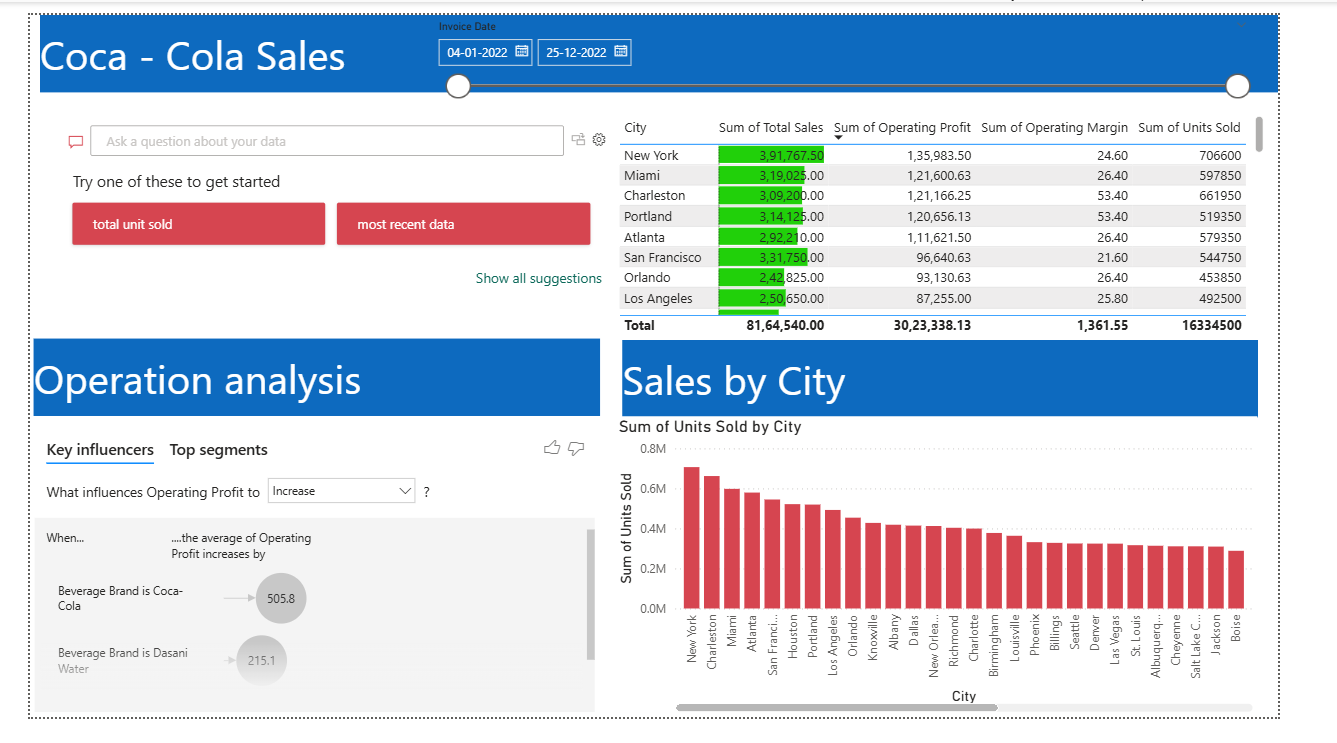

The dashboard page shown, as its layout file describes it:
{"tool":"powerbi","page":{"name":"Page 1","canvas":[1280,720],"ordinal":0},"visuals":[{"type":"shape","box":[9.8,0,1270.5,79.5],"z":0},{"type":"shape","box":[3.7,332.6,580.8,79.5],"z":1000},{"type":"shape","box":[607.7,333.8,651.8,79.5],"z":2000},{"type":"qnaVisual","box":[30.6,88,568.6,234.8],"z":3000},{"type":"keyDriversVisual","fields":{"Target":["Data.Operating Profit"],"ExplainBy":["Data.Beverage Brand"]},"box":[0,420.7,584.5,299.6],"z":4000},{"type":"columnChart","fields":{"Category":["Data.City"],"Y":["Sum(Data.Units Sold)"]},"box":[599.2,412.1,660.3,308.2],"z":5000},{"type":"tableEx","fields":{"Values":["Data.City","Sum(Data.Total Sales)","Sum(Data.Operating Profit)","Sum(Data.Operating Margin)","Sum(Data.Units Sold)"]},"box":[599.2,99,671.3,234.8],"z":6000},{"type":"slicer","fields":{"Values":["Data.Invoice Date"]},"box":[406,0,853.5,88],"z":7000}]}

Visuals, with their boxes in screenshot pixels (x1, y1, x2, y2), scaled from the page's 1280x720 canvas onto the 1337x743 screenshot:
shape: l=10, t=0, r=1336, b=82
shape: l=4, t=343, r=611, b=425
shape: l=635, t=344, r=1316, b=427
qnaVisual: l=32, t=91, r=626, b=333
keyDriversVisual - Data.Operating Profit x Data.Beverage Brand: l=0, t=434, r=611, b=742
columnChart - Data.City x Sum(Data.Units Sold): l=626, t=425, r=1316, b=742
tableEx - Data.City x Sum(Data.Total Sales): l=626, t=102, r=1327, b=344
slicer - Data.Invoice Date: l=424, t=0, r=1316, b=91
